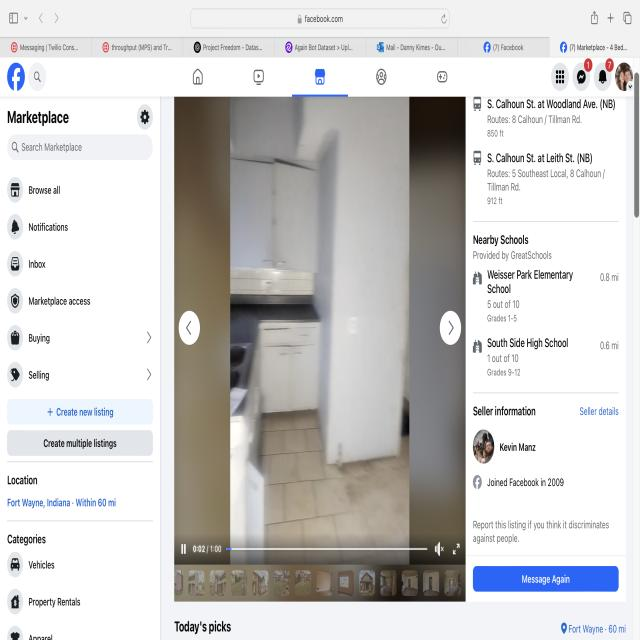message_button: (475, 568, 617, 590)
